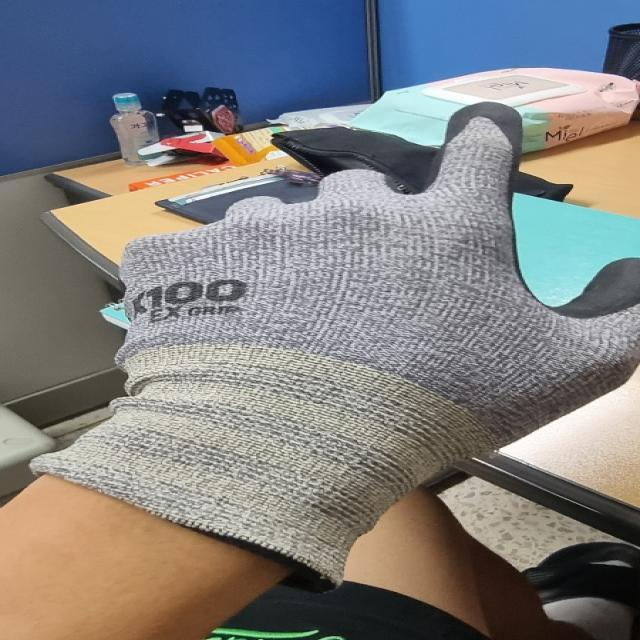Gloves: (62, 109, 640, 543)
